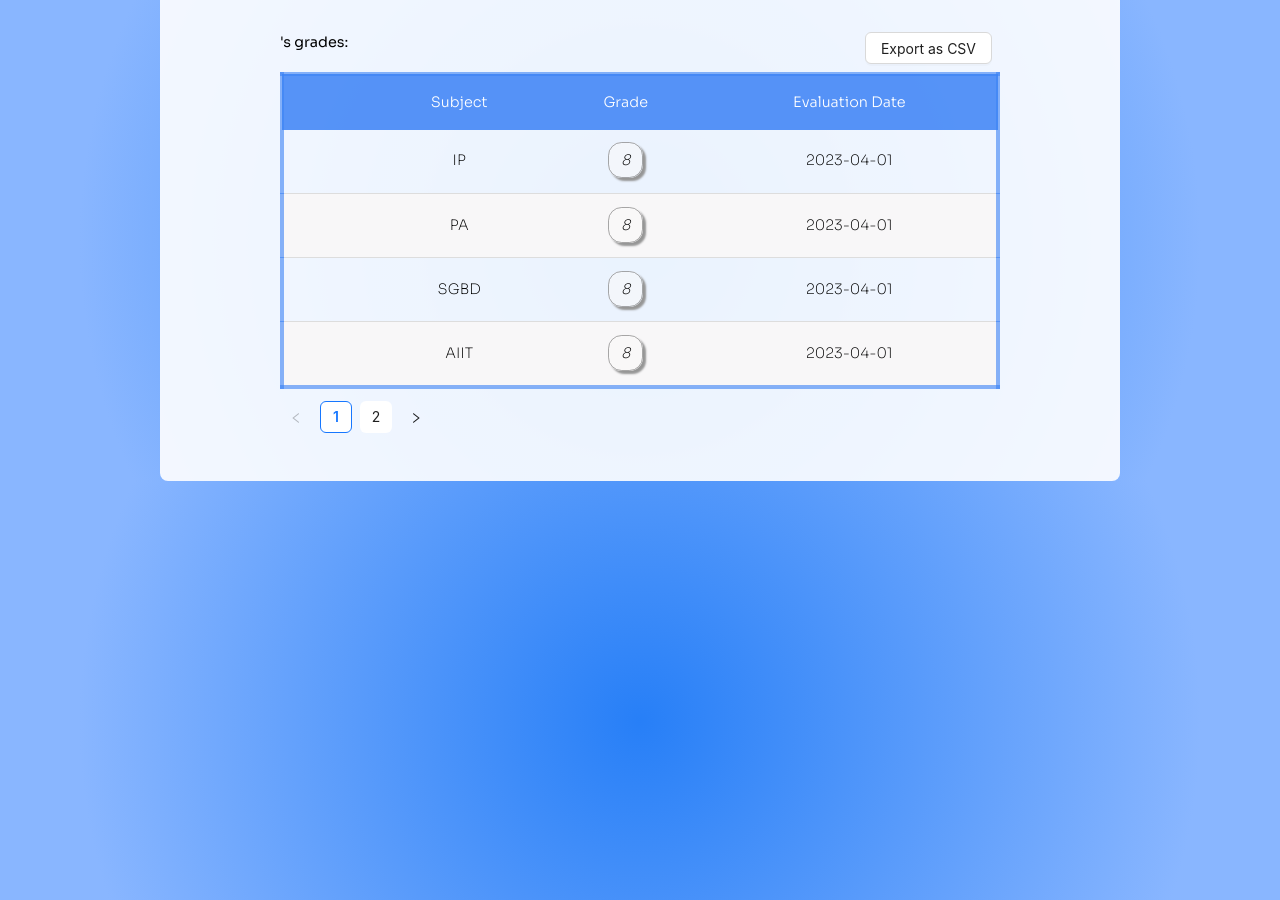
it: Catalog › displays the correct number of grades per page based on pagination
This screenshot has width=1280, height=900.
Expected: the text "IP" is shown, [452,151,466,169]
Expected: the text "PA" is shown, [450,216,469,234]
Click the link "2": click(376, 417) [372,408,380,425]
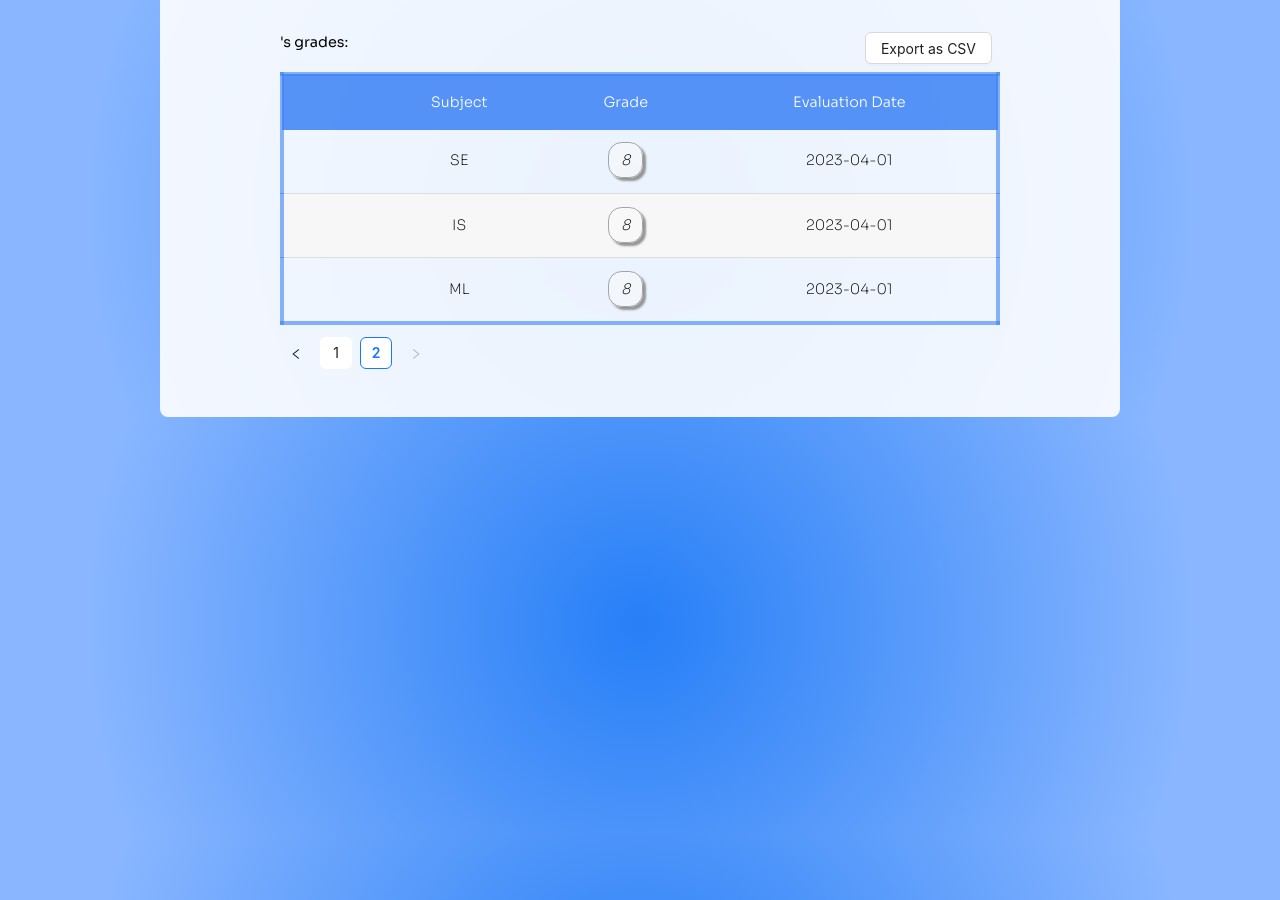
Now the text "SE" is shown, box [450,151,469,169]
Now the text "IS" is shown, box [452,216,466,234]
Now the text "ML" is shown, box [449,280,469,298]
